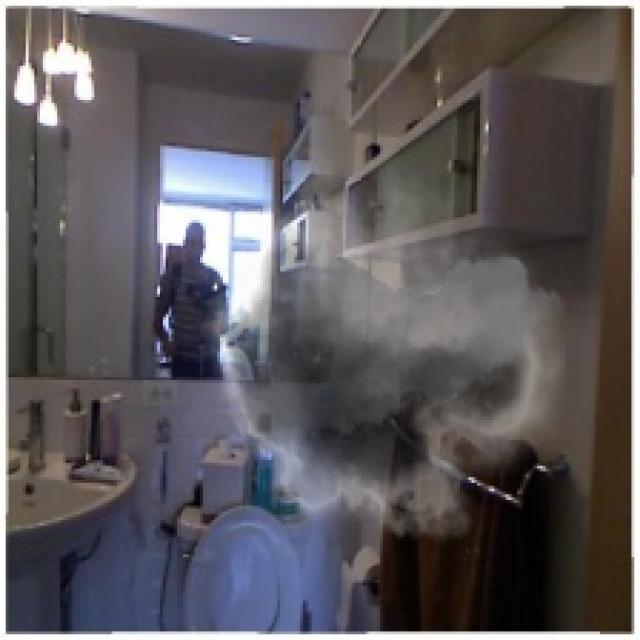Smoke: (185, 145, 566, 560)
